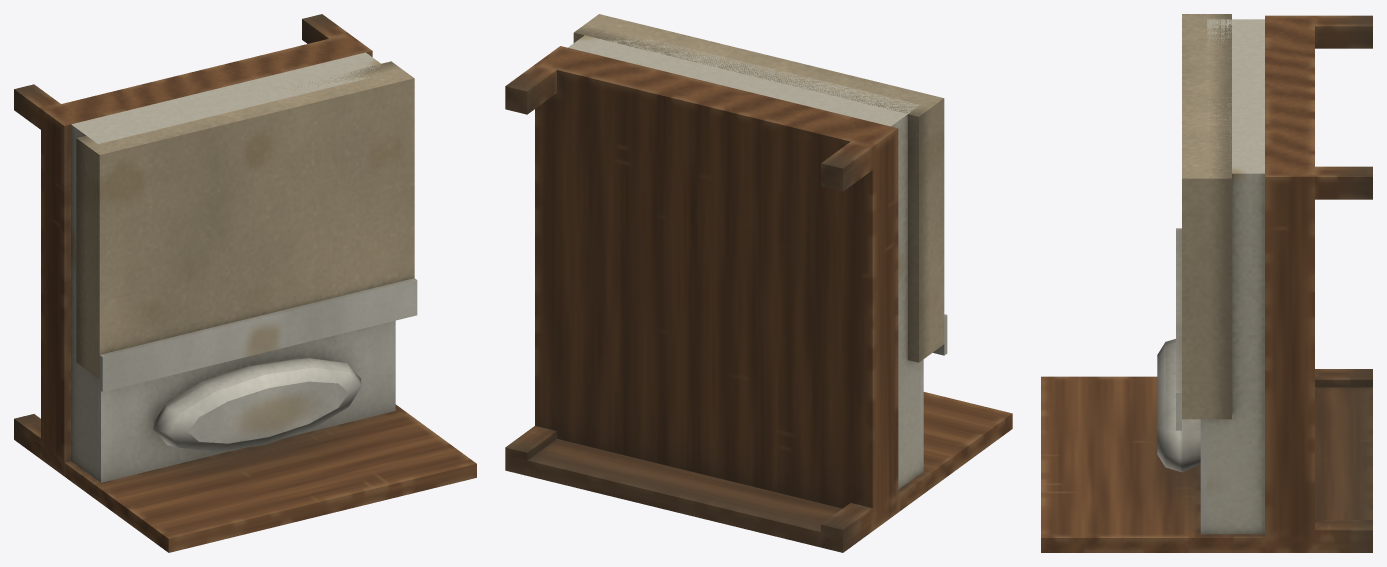
Rendered from bed_head.obj.
The picture shows the model from 3 angles, left to right: view 1: azimuth 30°, elevation 25°; view 2: azimuth 150°, elevation 25°; view 3: azimuth 270°, elevation 25°; orthographic projection. The views are drawn at different scales.
Size of the model in its own units: 0.94 by 1 by 0.8.
Materials: 1 (1 with a texture image).
